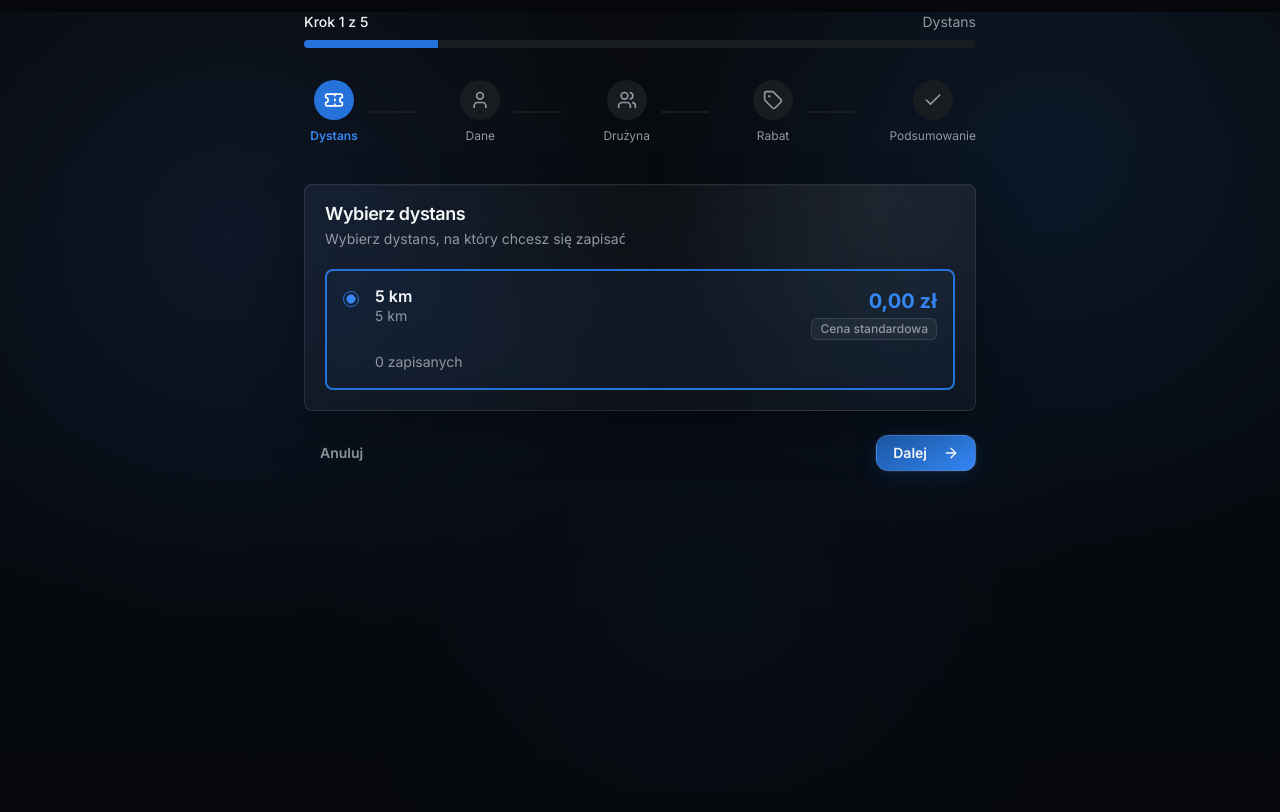
RegistrationForm personal-data step › shows the ward's data and age category on the personal-data step
The image size is (1280, 812).
Click the button "Dalej" at [926, 453], box [876, 435, 976, 471]
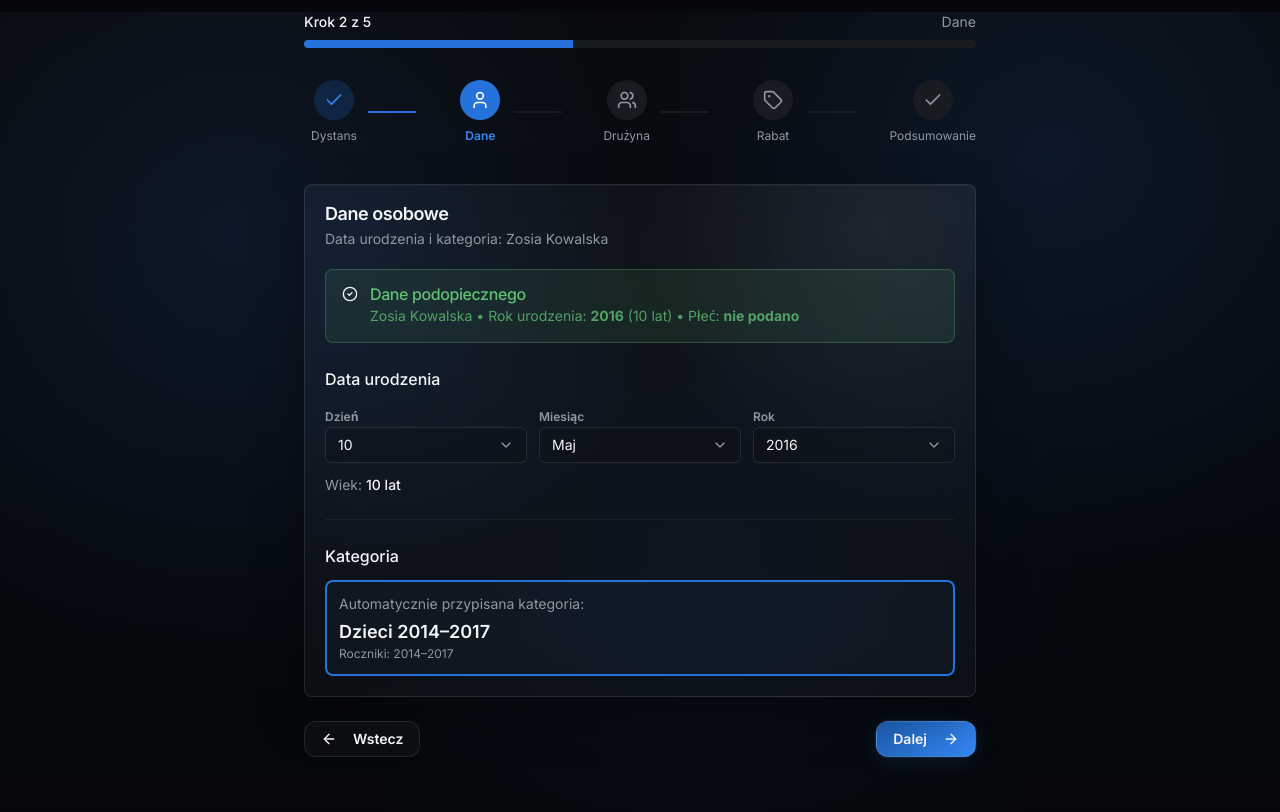
expect the heading "Dane osobowe" is shown: met, box [325, 203, 448, 224]
expect the text "Dane podopiecznego" is shown: met, box [370, 284, 526, 304]
expect the text "Data urodzenia i kategoria: Zosia Kowalska" is shown: met, box [325, 230, 608, 247]
